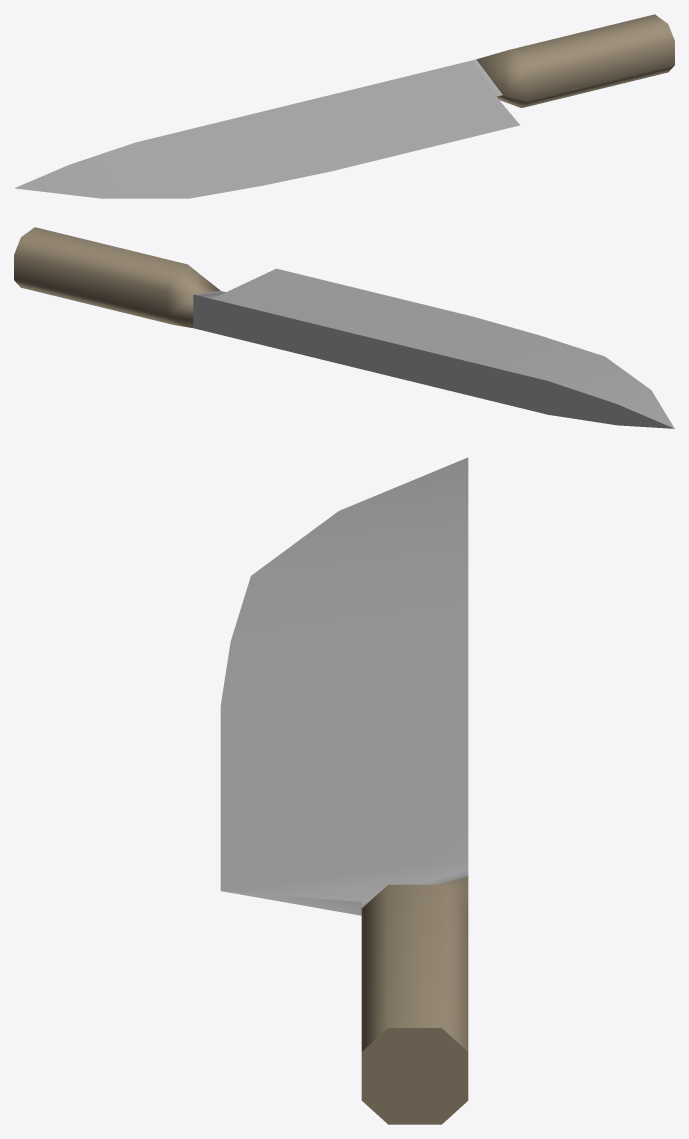
Rendered from SM_Knife.fbx.
3 renders of one model, top to bottom at view 1: azimuth 30°, elevation 25°; view 2: azimuth 150°, elevation 25°; view 3: azimuth 270°, elevation 25°, orthographic. The views are drawn at different scales.
Visible parts, largest first — view 1: pCube70; view 2: pCube70; view 3: pCube70.
Part boxes in pixels (x1=…): pCube70: x1=15, y1=14, x2=674, y2=198; pCube70: x1=14, y1=227, x2=674, y2=428; pCube70: x1=220, y1=457, x2=468, y2=1124.
Bounding box in the file's own units: 59.91 × 4.37 × 10.14.
